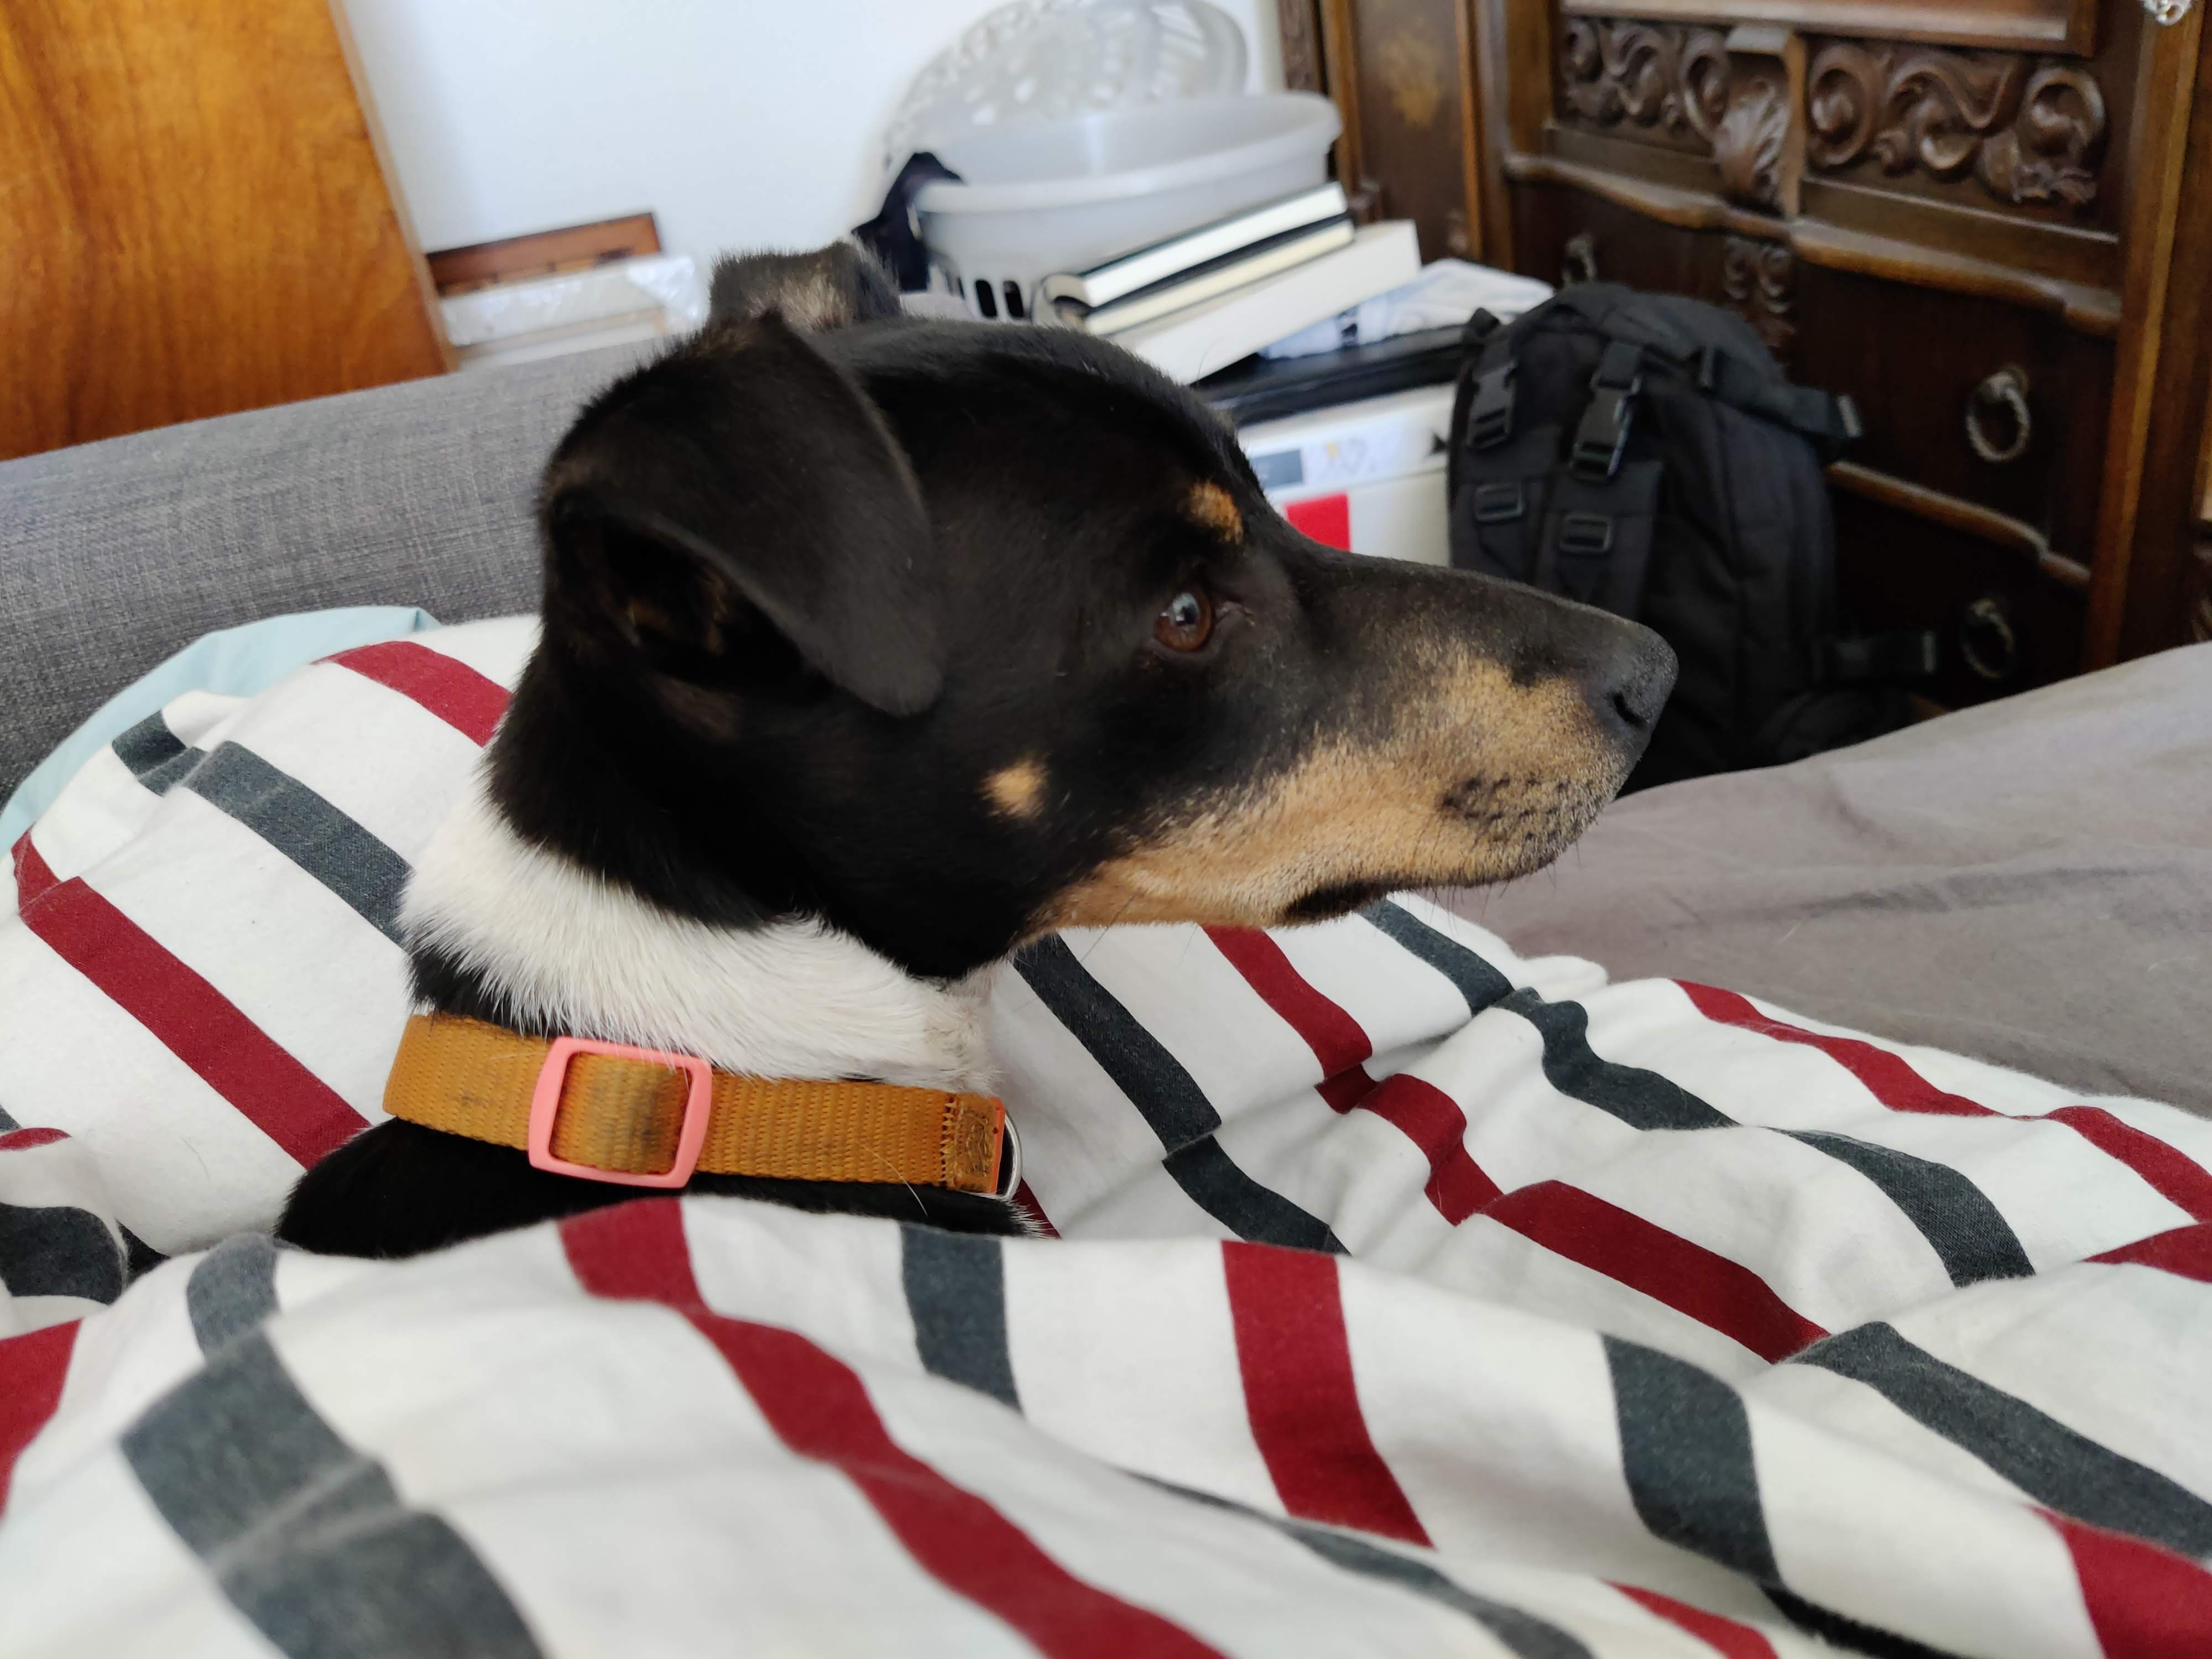Dog: (230, 237, 1702, 1302)
